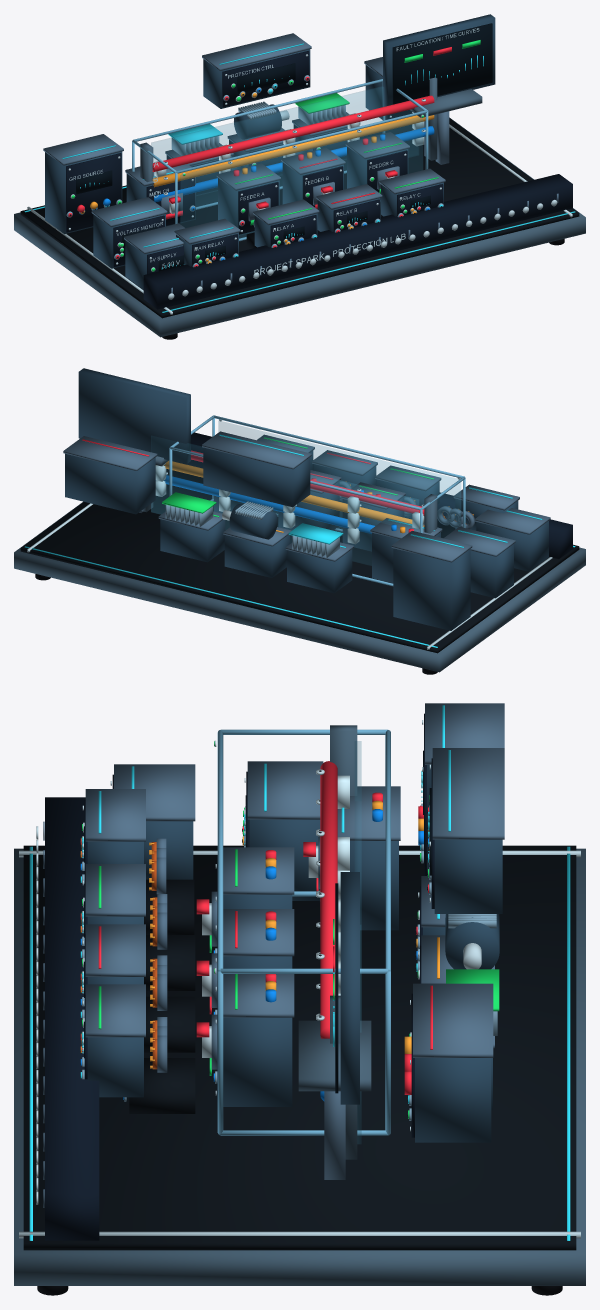
Rendered from Level58_Complete_ArtKit_Showcase.fbx.
3 renders of one model, top to bottom at view 1: azimuth 30°, elevation 25°; view 2: azimuth 150°, elevation 25°; view 3: azimuth 270°, elevation 25°, orthographic. The views are drawn at different scales.
Parts seen in each view (by area): view 1: L58_IndustrialProtectionBase__FrontConnectionRail, L58_IndustrialProtectionBase__InsetGraphiteDeck, L58_IndustrialProtectionBase__MachinedTitaniumBench, L58_TransparentSafetyEnclosure__FrontSafetyDoor, L58_ThreePhaseDistributionBus__PolycarbonateBackplate, L58_HolographicProtectionMonitor__MainDisplay, L58_ProtectionCoordinationController__SelectivityController_ (×3), L58_ThreePhaseDistributionBus__CopperBusA, L58_ThreePhaseGridSource__ThreePhaseGridGenerator_Front, L58_ThreePhaseDistributionBus__CopperBusB, L58_HolographicProtectionMonitor__HolographicFrame, L58_TransparentSafetyEnclosure__SafetyHorizontal (×2) (+41 smaller); view 2: L58_IndustrialProtectionBase__InsetGraphiteDeck, L58_IndustrialProtectionBase__MachinedTitaniumBench, L58_ThreePhaseDistributionBus__PolycarbonateBackplate, L58_HolographicProtectionMonitor__HolographicFrame, L58_ProtectionCoordinationController__SelectivityController_ (×2), L58_TransparentSafetyEnclosure__FrontSafetyDoor, L58_ThreePhaseGridSource__ThreePhaseGridGenerator_Housing, L58_FaultInjectionUnit__ControlledFaultInjection_Housing, L58_SmartLoadBankA__LOAD A_Housing, L58_PriorityLoadC__PRIORITY C_Housing, L58_MotorLoadB__MOTOR B_Housing, L58_VoltageMonitoringModule__ThreePhaseVoltageSensor_Housing (+30 smaller); view 3: L58_IndustrialProtectionBase__InsetGraphiteDeck, L58_IndustrialProtectionBase__MachinedTitaniumBench, L58_IndustrialProtectionBase__FrontConnectionRail, L58_ProtectionCoordinationController__SelectivityController_ (×2), L58_FaultInjectionUnit__ControlledFaultInjection_Housing, L58_FeederBreakerC__FEEDER C_Housing, L58_FaultInjectionUnit__ControlledFaultInjection_TopLip, L58_HolographicProtectionMonitor__HolographicFrame, L58_VoltageMonitoringModule__ThreePhaseVoltageSensor_TopLip, L58_ThreePhaseDistributionBus__CopperBusA, L58_Regulated5VSupply__Regulated5VSupply_TopLip, L58_ThreePhaseGridSource__ThreePhaseGridGenerator_TopLip (+32 smaller).
Boxes of the visible parts, x1,y1,x2,y2 form: L58_IndustrialProtectionBase__FrontConnectionRail: (143, 174, 572, 309); L58_IndustrialProtectionBase__InsetGraphiteDeck: (20, 118, 579, 318); L58_IndustrialProtectionBase__MachinedTitaniumBench: (14, 117, 585, 337); L58_TransparentSafetyEnclosure__FrontSafetyDoor: (180, 116, 422, 238); L58_ThreePhaseDistributionBus__PolycarbonateBackplate: (151, 86, 418, 208); L58_HolographicProtectionMonitor__MainDisplay: (392, 23, 492, 104); L58_ProtectionCoordinationController__SelectivityController_ (×3): (202, 33, 311, 108); L58_ThreePhaseDistributionBus__CopperBusA: (152, 95, 434, 171); L58_ThreePhaseGridSource__ThreePhaseGridGenerator_Front: (66, 153, 121, 232); L58_ThreePhaseDistributionBus__CopperBusB: (152, 115, 434, 187); L58_HolographicProtectionMonitor__HolographicFrame: (383, 14, 495, 106); L58_TransparentSafetyEnclosure__SafetyHorizontal (×2): (133, 79, 427, 173); L58_IndustrialProtectionBase__InsetGraphiteDeck: (20, 469, 579, 653); L58_IndustrialProtectionBase__MachinedTitaniumBench: (14, 501, 585, 672); L58_ThreePhaseDistributionBus__PolycarbonateBackplate: (151, 436, 418, 565); L58_HolographicProtectionMonitor__HolographicFrame: (78, 368, 190, 464); L58_ProtectionCoordinationController__SelectivityController_ (×2): (202, 431, 311, 507); L58_TransparentSafetyEnclosure__FrontSafetyDoor: (218, 421, 460, 537); L58_ThreePhaseGridSource__ThreePhaseGridGenerator_Housing: (393, 548, 470, 630); L58_FaultInjectionUnit__ControlledFaultInjection_Housing: (65, 453, 155, 514); L58_SmartLoadBankA__LOAD A_Housing: (287, 549, 352, 593); L58_PriorityLoadC__PRIORITY C_Housing: (160, 519, 225, 562); L58_MotorLoadB__MOTOR B_Housing: (224, 535, 289, 577); L58_VoltageMonitoringModule__ThreePhaseVoltageSensor_Housing: (470, 544, 513, 598); L58_IndustrialProtectionBase__InsetGraphiteDeck: (23, 845, 576, 1250); L58_IndustrialProtectionBase__MachinedTitaniumBench: (14, 848, 585, 1285); L58_IndustrialProtectionBase__FrontConnectionRail: (45, 797, 99, 1240); L58_ProtectionCoordinationController__SelectivityController_ (×2): (432, 748, 504, 913); L58_FaultInjectionUnit__ControlledFaultInjection_Housing: (415, 1058, 491, 1142); L58_FeederBreakerC__FEEDER C_Housing: (223, 1017, 292, 1106); L58_FaultInjectionUnit__ControlledFaultInjection_TopLip: (413, 983, 493, 1057); L58_HolographicProtectionMonitor__HolographicFrame: (340, 872, 359, 1104); L58_VoltageMonitoringModule__ThreePhaseVoltageSensor_TopLip: (247, 761, 323, 819); L58_ThreePhaseDistributionBus__CopperBusA: (320, 761, 337, 1038); L58_Regulated5VSupply__Regulated5VSupply_TopLip: (114, 764, 195, 821); L58_ThreePhaseGridSource__ThreePhaseGridGenerator_TopLip: (425, 703, 504, 764).
Size of the model in its own units: 9.9 by 3.72 by 5.9.
